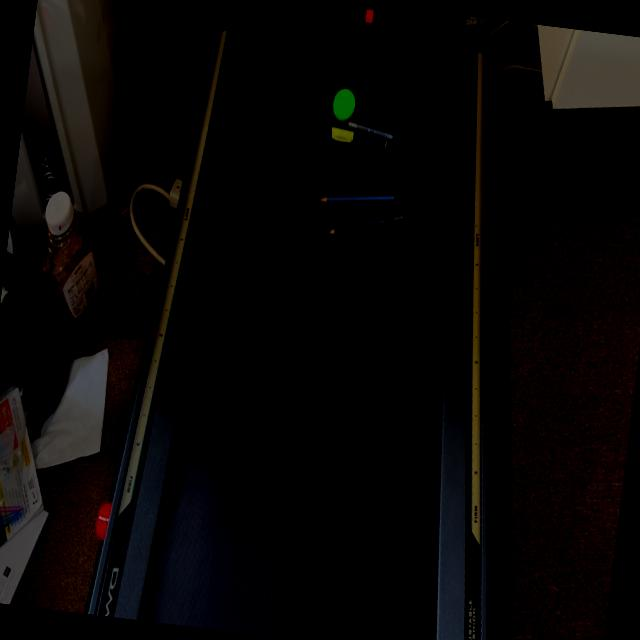Trash: (302, 180, 427, 264), (320, 82, 420, 168), (352, 2, 393, 38)
